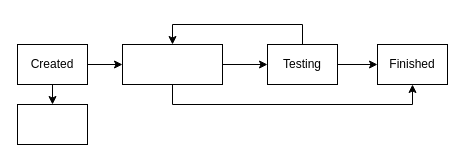
Image size: 465x162. Some labels were removed from this diagram. The shapes that lost their labels are listed below. From the top down, each one's box as (x1, y1, x2, y2) in pixels, then its label:
(122, 44, 222, 84): Implementation
(16, 104, 88, 144): Cancelled
